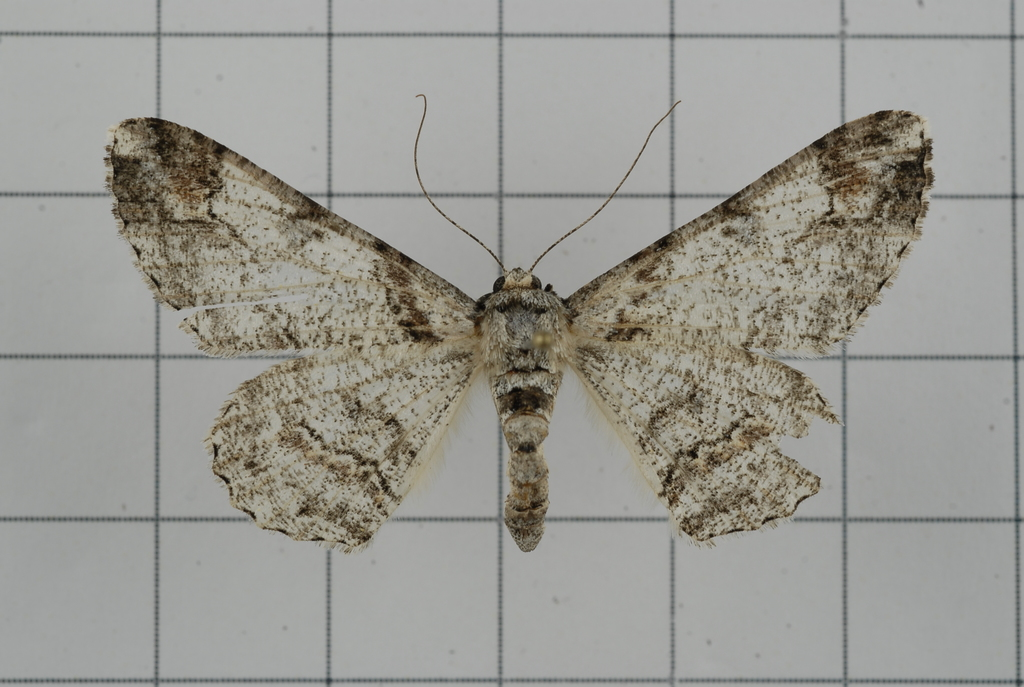Butterfly: (99, 100, 944, 568)
